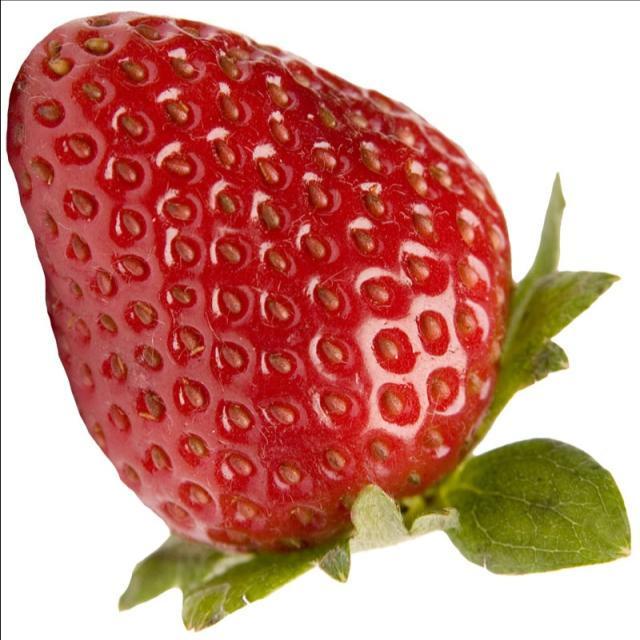strawberry: (0, 0, 600, 609)
